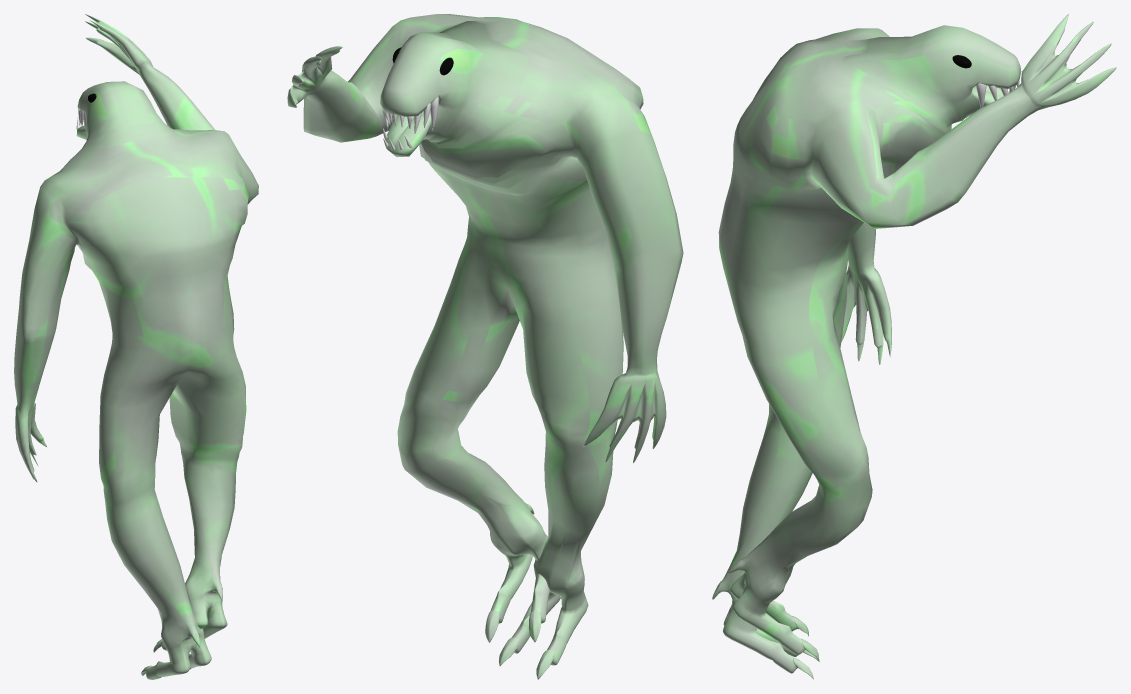
Rendered from Berserkercorrer.0036.obj.
The picture shows the model from 3 angles, left to right: view 1: azimuth 30°, elevation 25°; view 2: azimuth 150°, elevation 25°; view 3: azimuth 270°, elevation 25°; orthographic projection. The views are drawn at different scales.
Visible parts, largest first — view 1: polySurface27; view 2: polySurface27; view 3: polySurface27.
Part boxes in pixels (x1=…): polySurface27: x1=14, y1=14, x2=258, y2=679; polySurface27: x1=287, y1=14, x2=683, y2=679; polySurface27: x1=712, y1=14, x2=1116, y2=679.
Bounding box in the file's own units: 11.59 × 24.63 × 13.33.
Materials: 1 (1 with a texture image).
